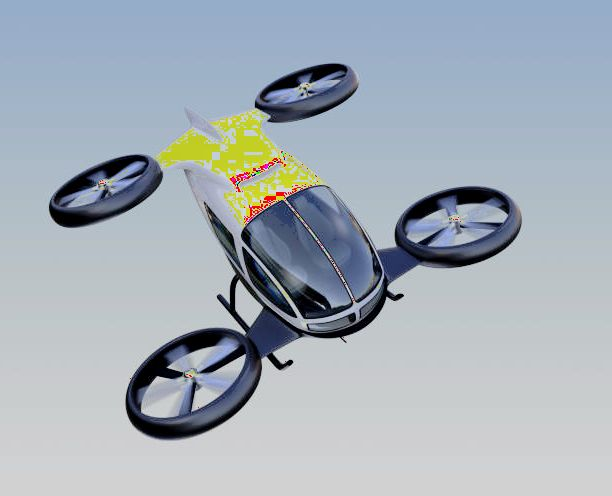Drone: (41, 56, 526, 448)
